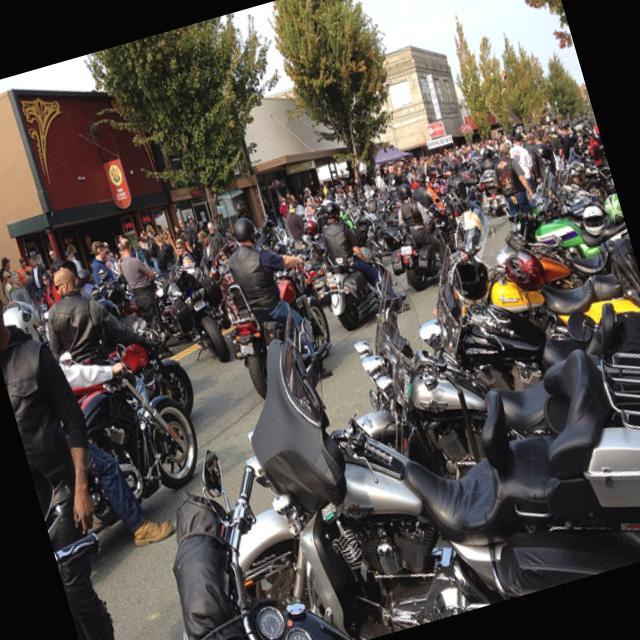Vehicle: (0, 117, 640, 640), (175, 208, 640, 640), (317, 199, 640, 487), (425, 158, 640, 398), (394, 215, 612, 415), (50, 358, 216, 538), (214, 258, 346, 406), (507, 183, 640, 308), (147, 250, 243, 374), (118, 319, 204, 434), (314, 238, 401, 342), (378, 208, 462, 296), (532, 172, 610, 234), (474, 168, 510, 220)
